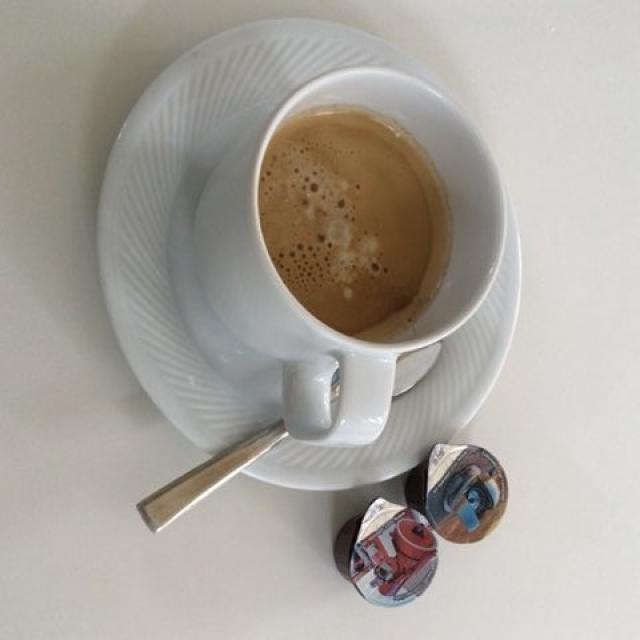coffee: (261, 109, 443, 333)
